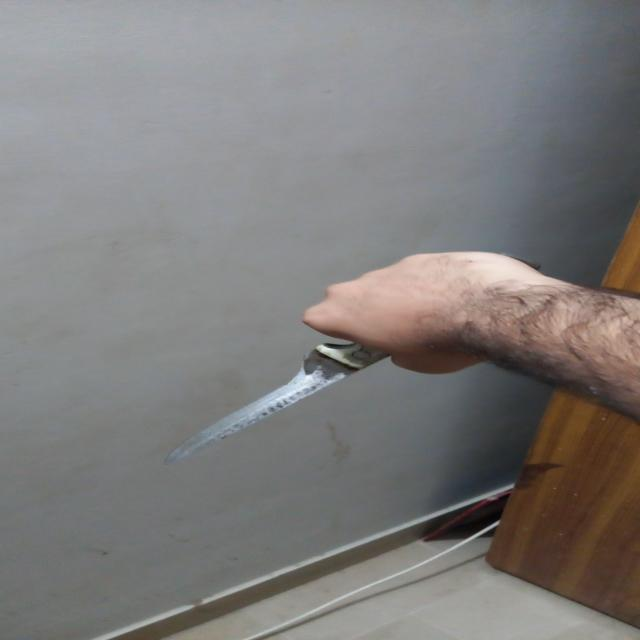knife: (170, 342, 428, 474)
